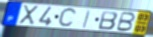4: (37, 6, 54, 27)
B: (115, 11, 136, 32), (97, 11, 119, 31)
C: (57, 7, 78, 29)
I: (81, 10, 92, 30)
X: (18, 4, 40, 25)
